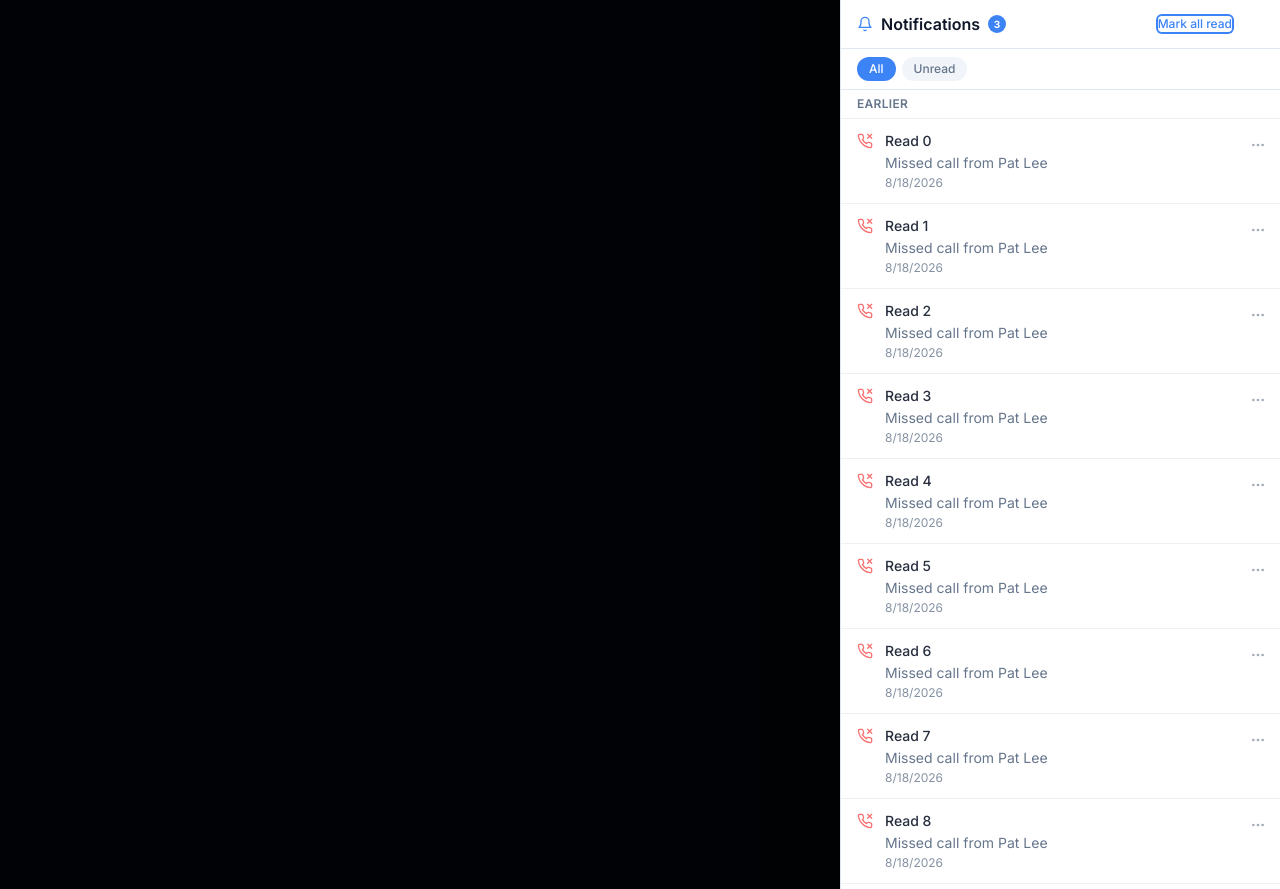
corrective pass — Unread filter/page boundary › keeps a manual load path visible when more unread exist than are loaded — even with zero filtered rows
Click the button "Unread" at (935,69), box [902,57,968,81]
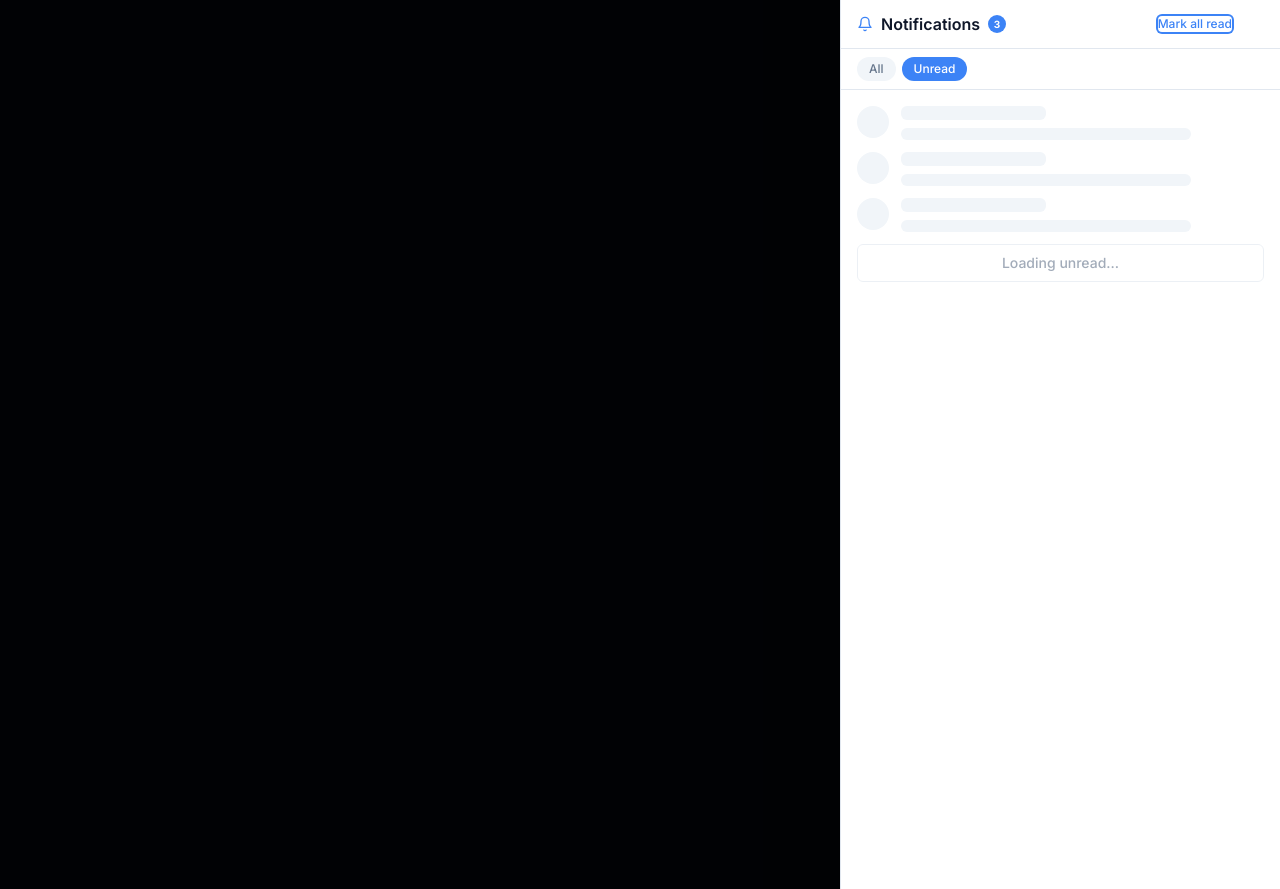
Expected: the element with test id "unread-loading" is shown, [841,90,1279,298]
